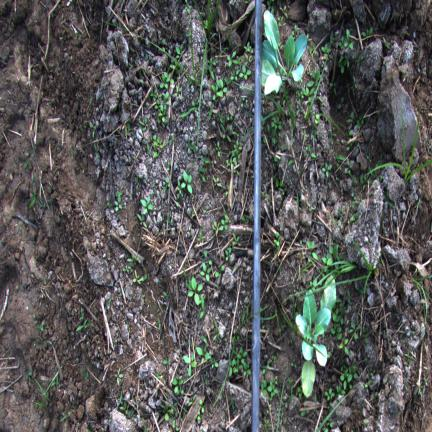crop: (296, 280, 336, 397), (262, 10, 307, 94)
